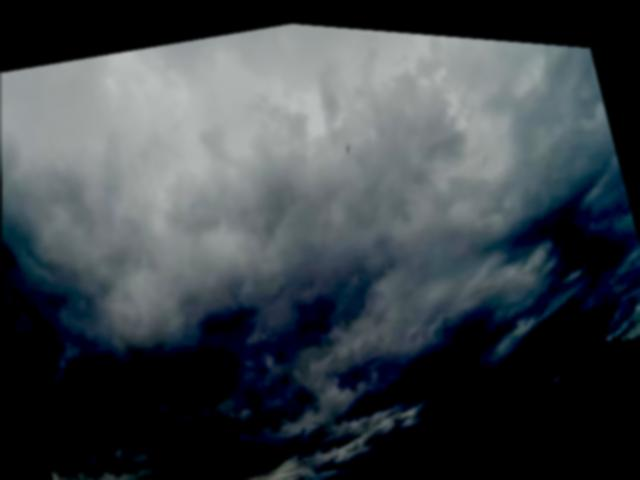uav: (337, 128, 360, 153)
